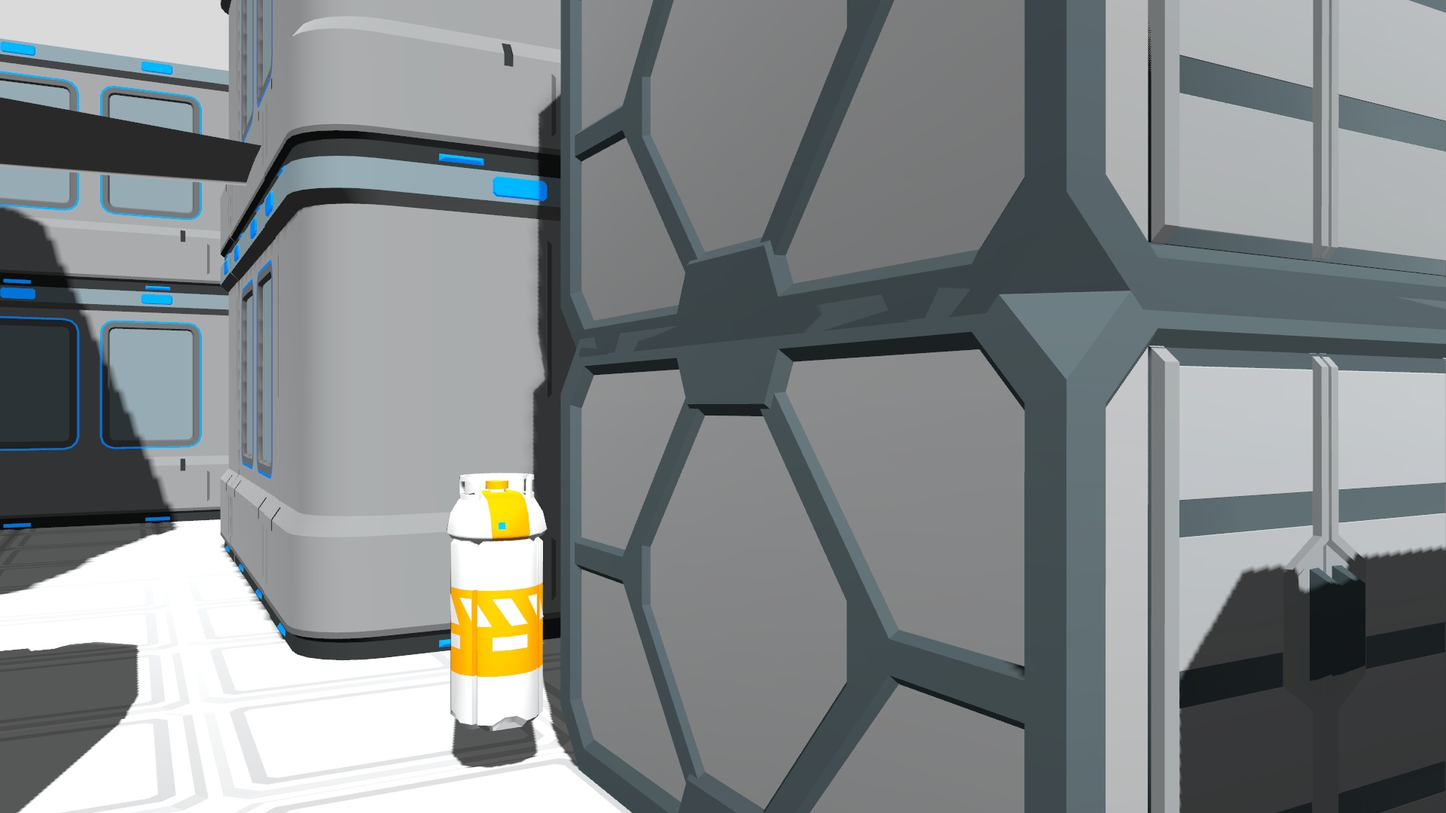yellow_barrel: (448, 464, 552, 737)
